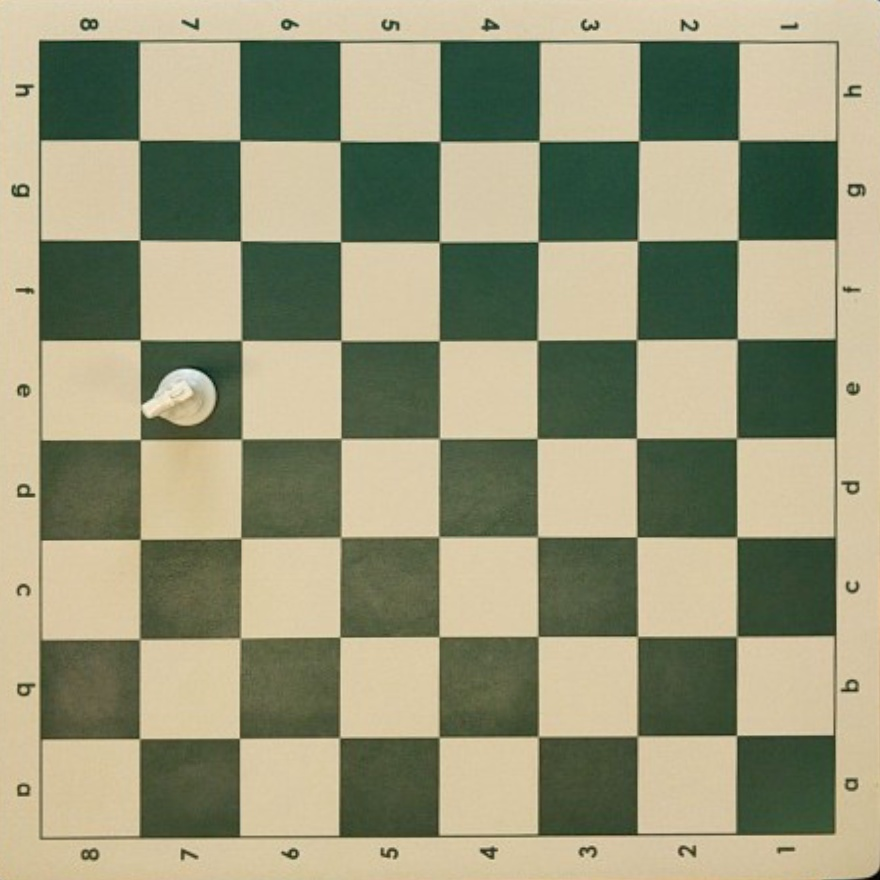white-knight: (142, 367, 216, 427)
